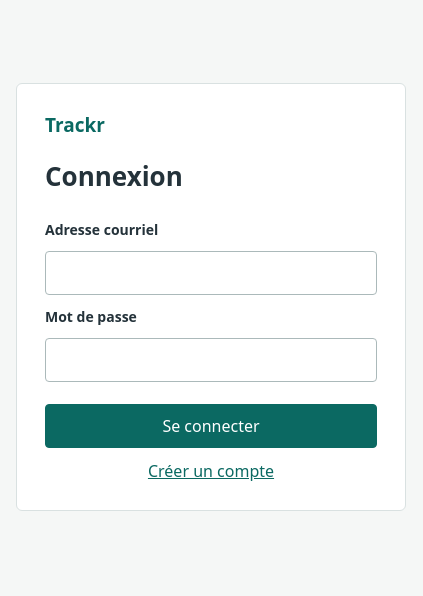
crée un compte puis propose la connexion sans connecter automatiquement
The image size is (423, 596).
Click the button "Créer un compte": x=211, y=471 [45,460,377,482]
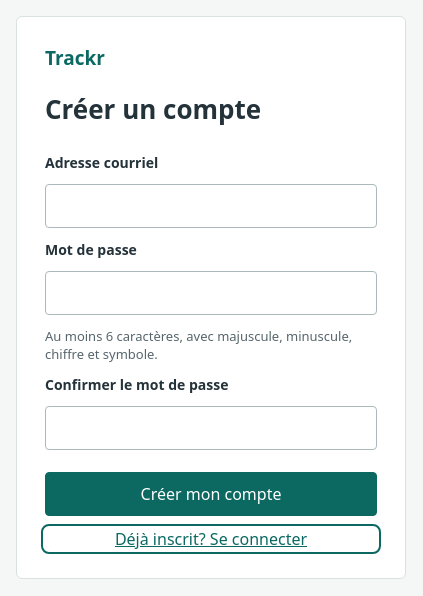
In the field labelled "Adresse courriel": x=211, y=206 [45,184,377,228], type "alice@example.com"
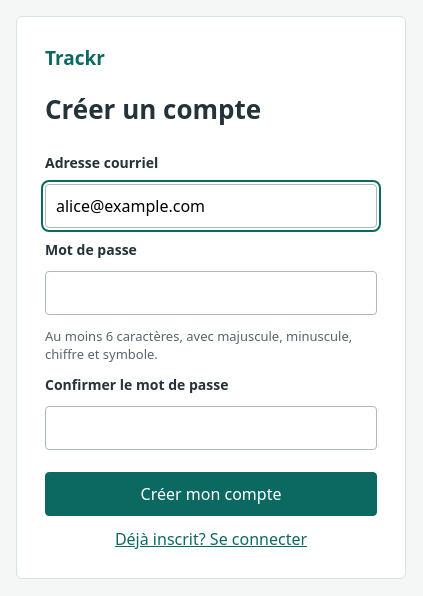
In the password field labelled "Mot de passe": x=211, y=292 [45,270,377,314], type "Trackr123!"
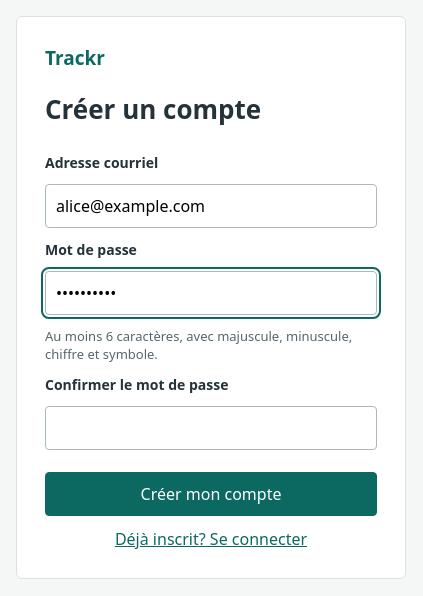
In the password field labelled "Confirmer le mot de passe": x=211, y=428 [45,406,377,450], type "Trackr123!"
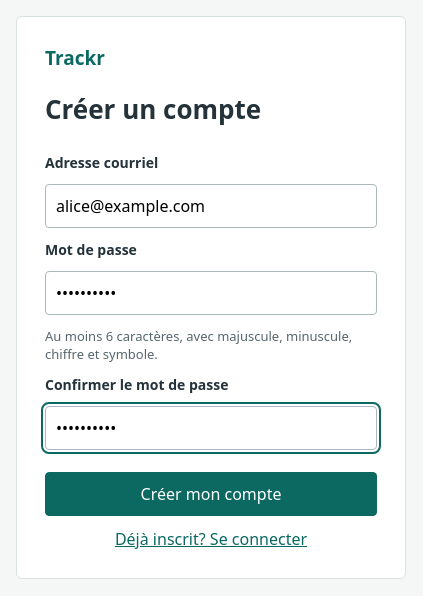
Click the button "Créer mon compte": x=211, y=494 [45,472,377,516]
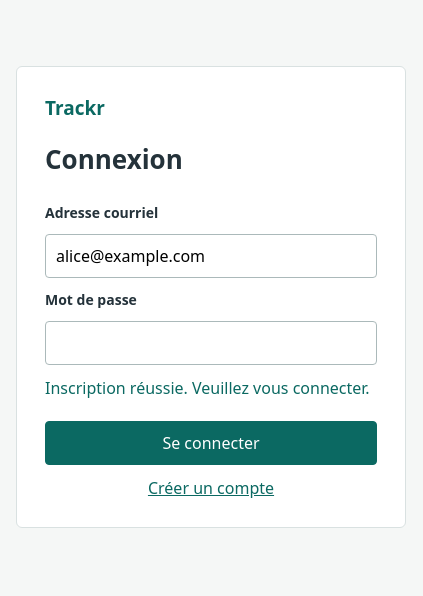
Result: the message reads "Inscription réussie. Veuillez vous connecter." at [45,377,370,399]
Result: the heading "Connexion" is shown at [45,141,183,177]
Result: the password field labelled "Mot de passe" is empty at [45,321,377,365]
